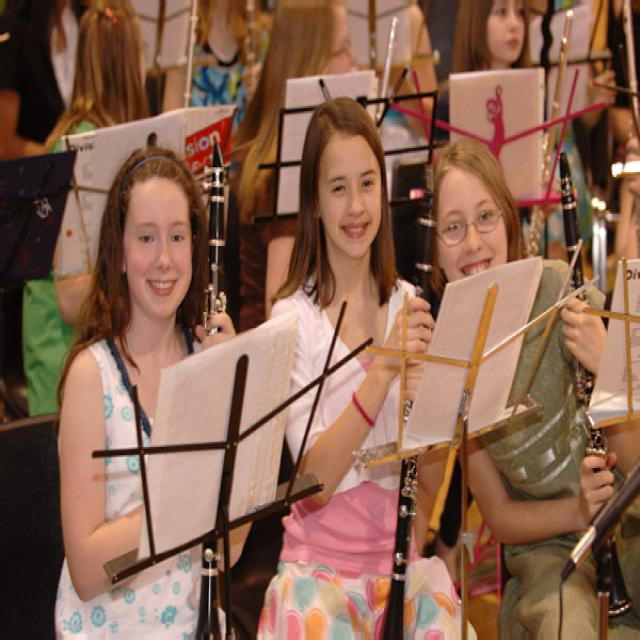clarinet: (551, 151, 638, 623), (375, 162, 436, 638), (195, 137, 225, 640)
